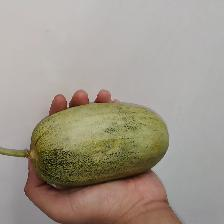gua: (31, 117, 160, 183)
